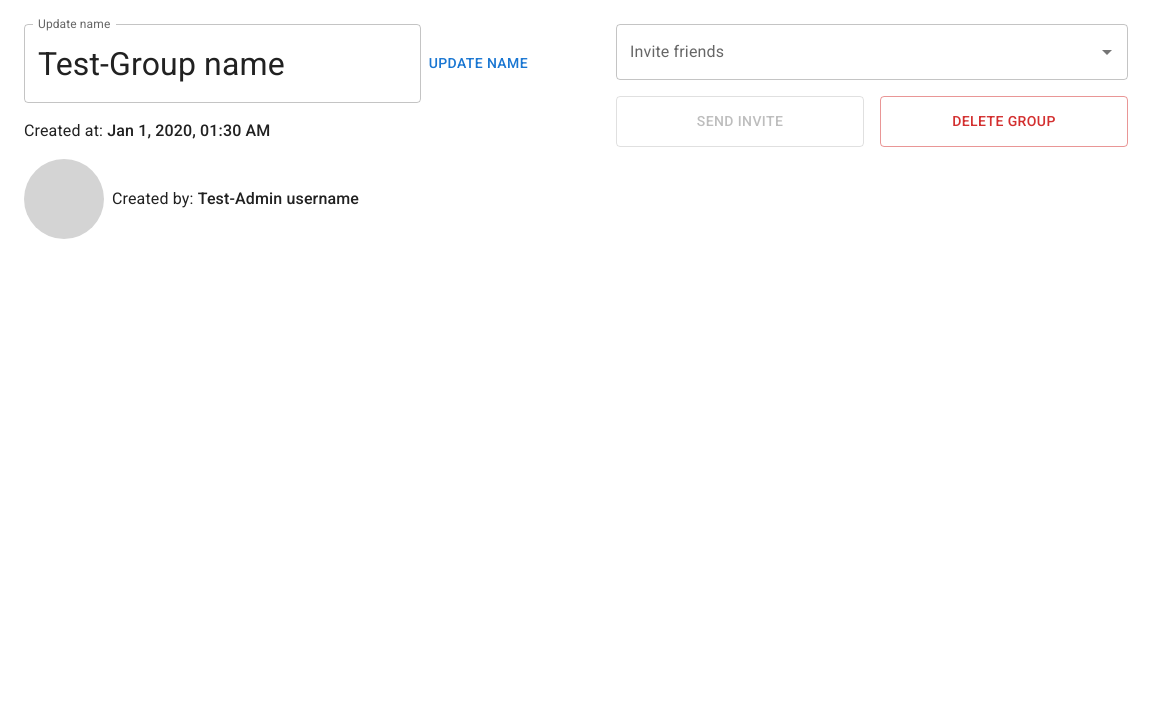
it: group-details-header component › updating group name › should display a modal when update name is clicked
This screenshot has width=1152, height=720.
Click the button "Update Name" at (478, 64), box [421, 24, 536, 103]
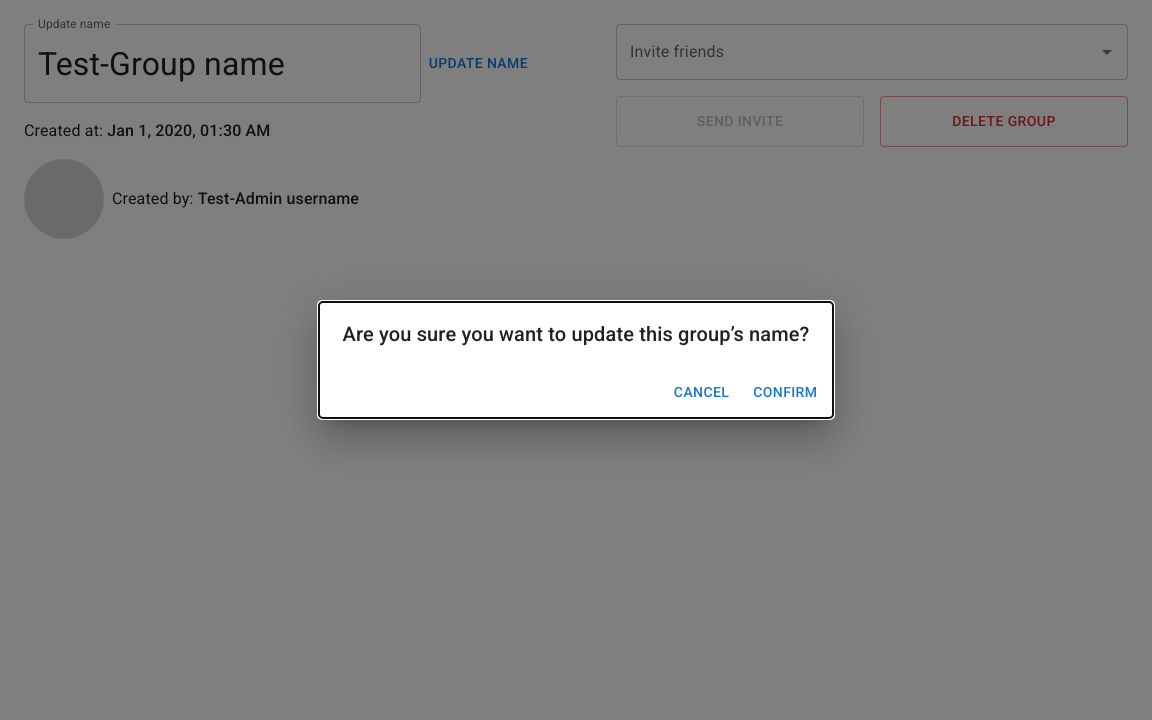
Result: the dialog is shown at [318, 302, 833, 418]
